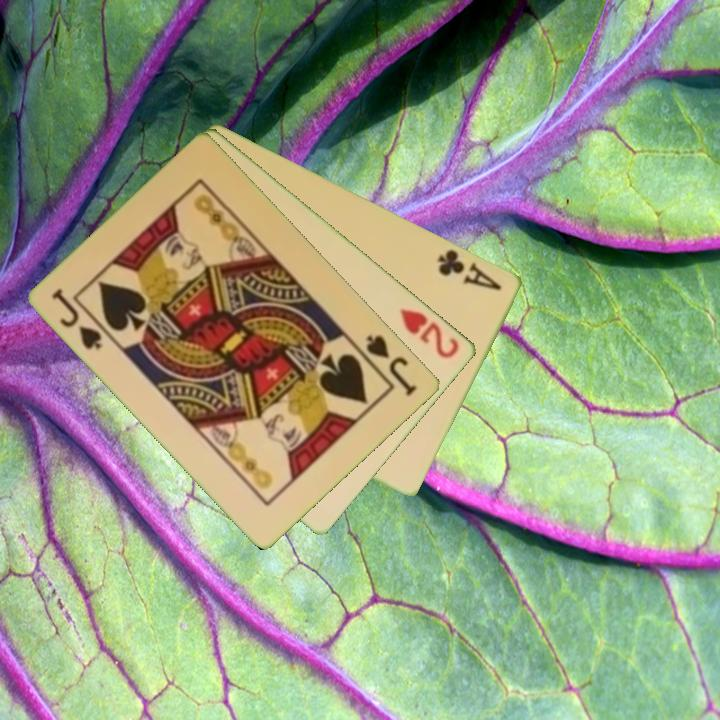2h: (397, 305, 463, 362)
Ac: (434, 245, 505, 293)
Js: (49, 284, 106, 353), (363, 331, 420, 399)
